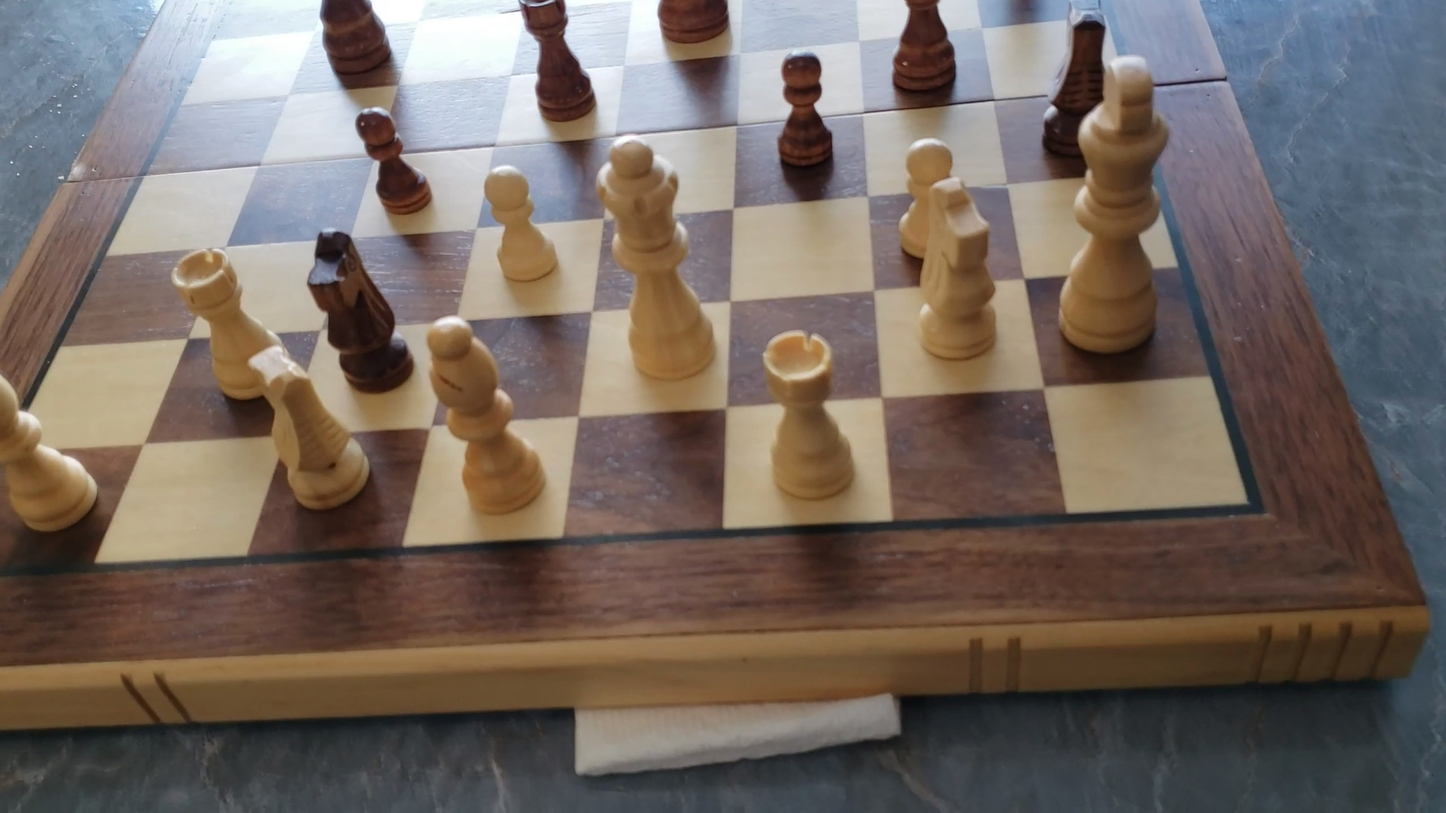black-knight: (306, 227, 413, 392), (1039, 5, 1113, 159)
black-pawn: (351, 103, 433, 217), (774, 46, 833, 171)
black-rook: (519, 0, 596, 122)
white-bishop: (419, 312, 550, 520), (0, 371, 104, 538)
white-king: (1051, 47, 1179, 364)
white-knight: (239, 344, 377, 516), (909, 174, 1003, 365)
white-pawn: (478, 158, 561, 287)
white-queen: (588, 131, 724, 388)
white-rook: (165, 243, 288, 408), (756, 324, 862, 505)
